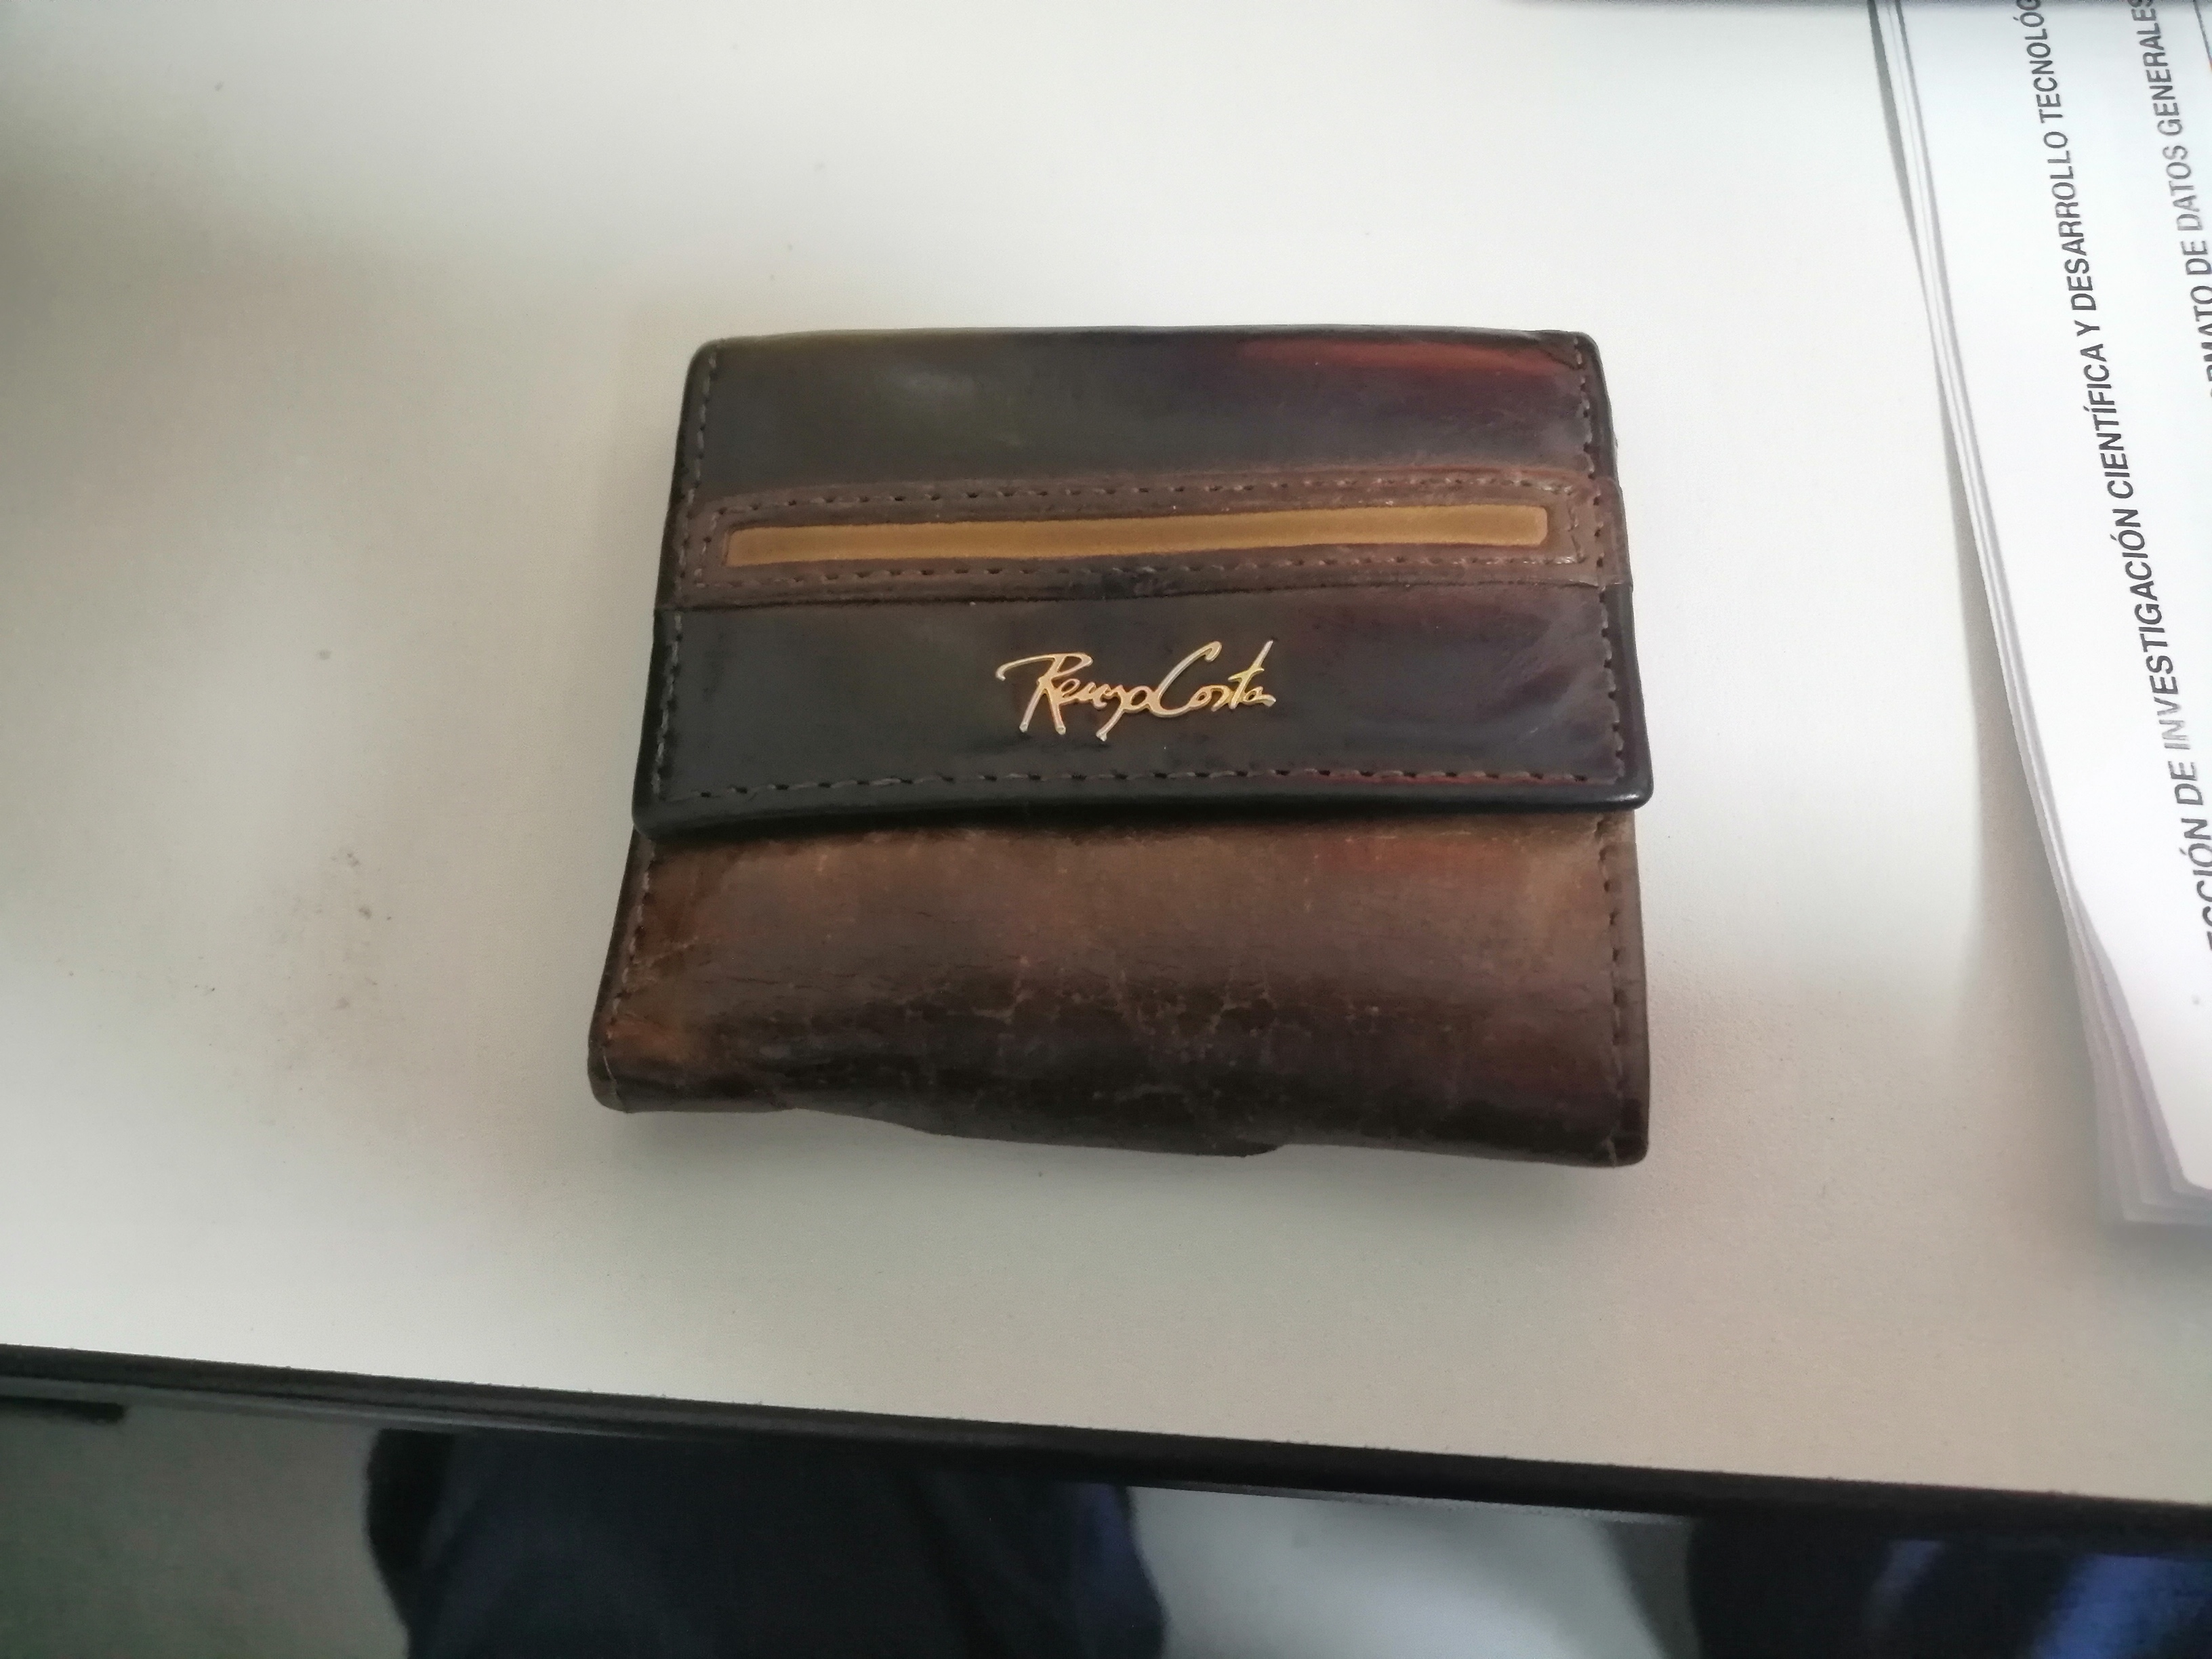monedero: (571, 301, 1693, 1192)
